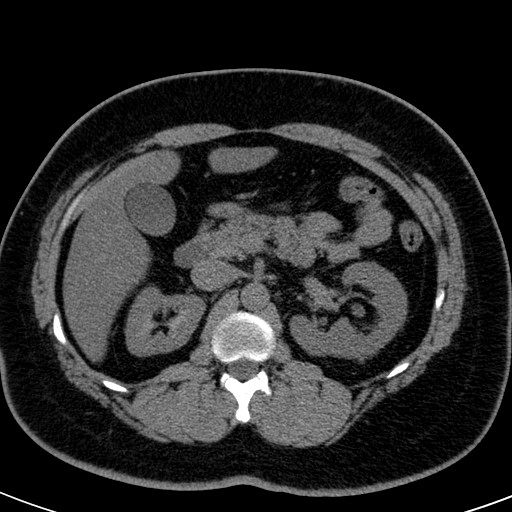vesicula: (122, 180, 178, 239)
